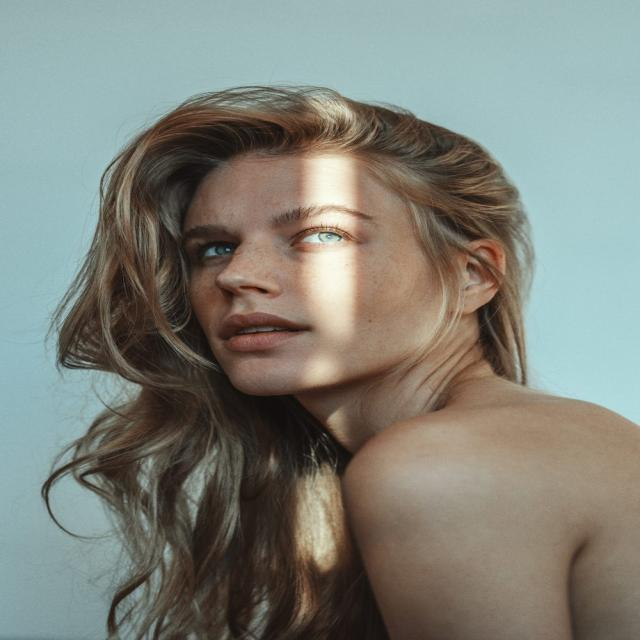earlobe: (452, 238, 506, 315)
